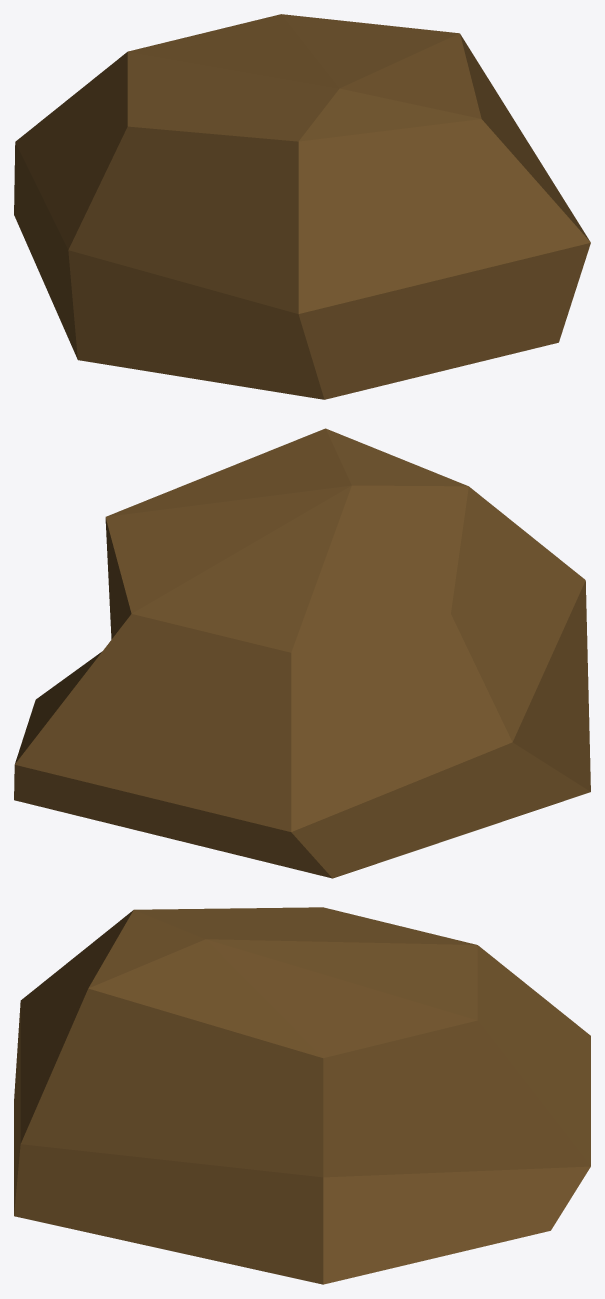
The model's file is D.pedra (1).fbx.
The picture shows the model from 3 angles, top to bottom: view 1: azimuth 30°, elevation 25°; view 2: azimuth 150°, elevation 25°; view 3: azimuth 270°, elevation 25°; orthographic projection. The views are drawn at different scales.
Visible parts, largest first — view 1: pasted__pSphere4; view 2: pasted__pSphere4; view 3: pasted__pSphere4.
Boxes of the visible parts, x1,y1,x2,y2 form: pasted__pSphere4: (14,14,590,399); pasted__pSphere4: (14,428,590,878); pasted__pSphere4: (14,907,590,1284).
Size of the model in its own units: 1.18 by 0.51 by 1.19.
